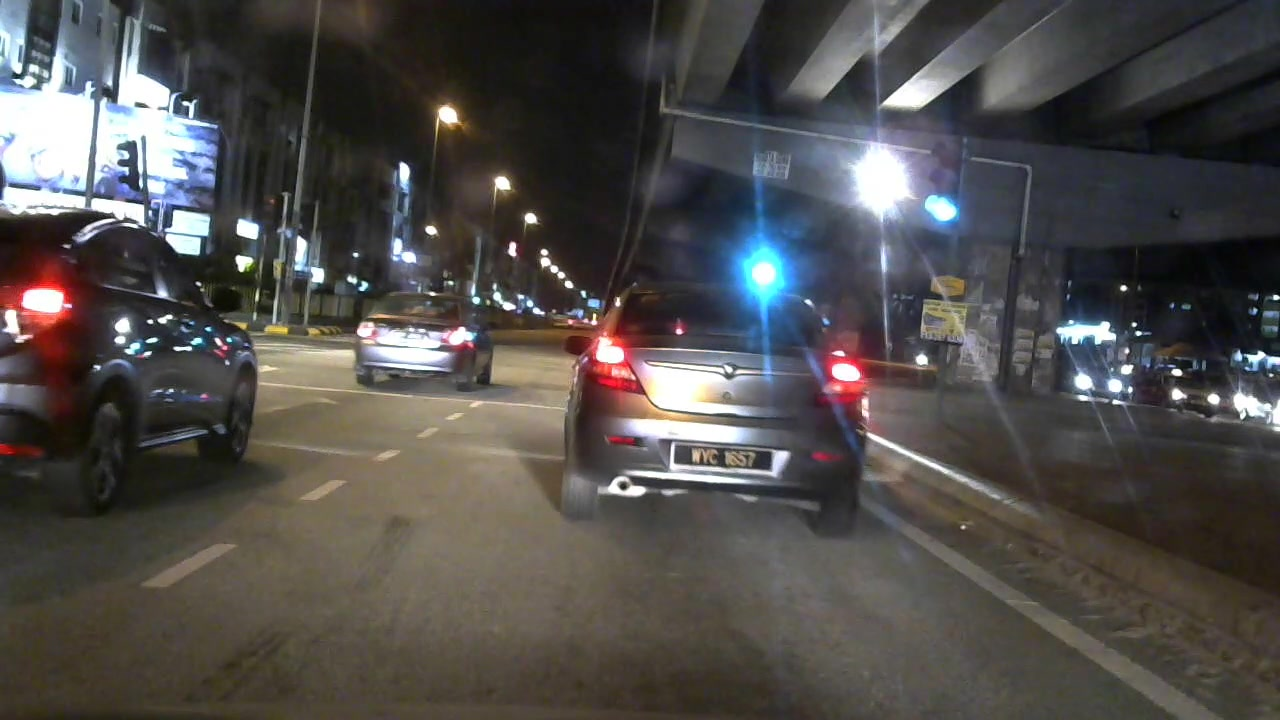Car: (1, 183, 291, 520), (543, 271, 886, 544), (349, 280, 499, 397), (1062, 355, 1126, 403), (1160, 367, 1219, 415)
